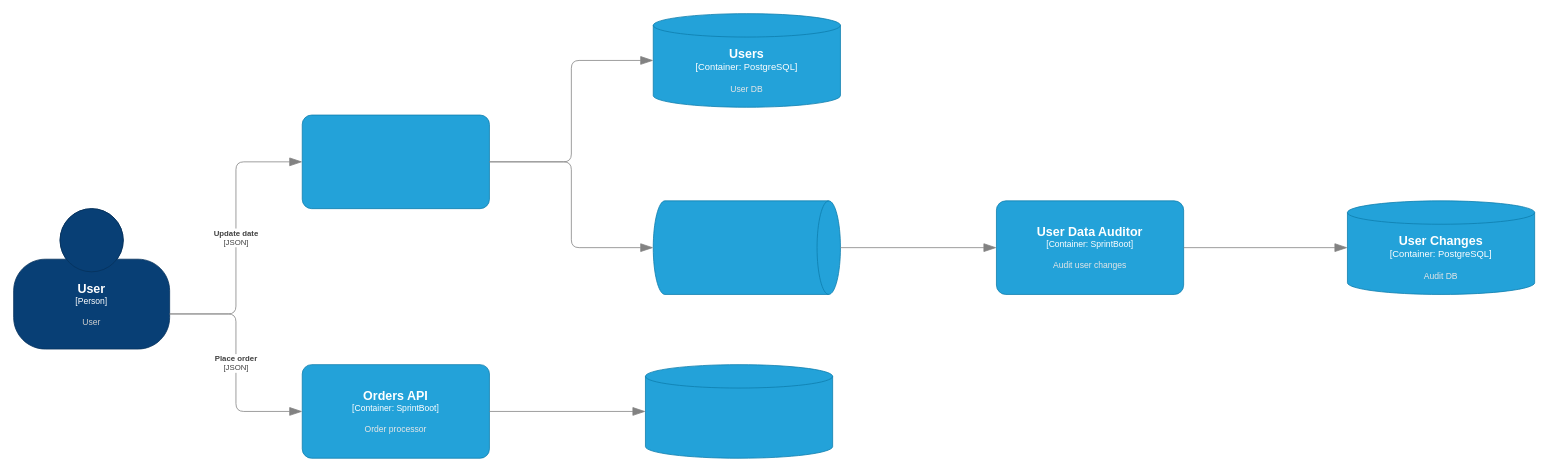
Image size: 1548x472. Some labels were removed from this diagram. Each missing label, with the box of its shape:
Orders [Container: PostgreSQL] Order DB: (645, 364, 833, 458)
User API [Container: SprintBoot] Manage user data: (301, 114, 489, 209)
users.data.changes [Container: Apache Kafka] Users data changes: (652, 200, 840, 294)
